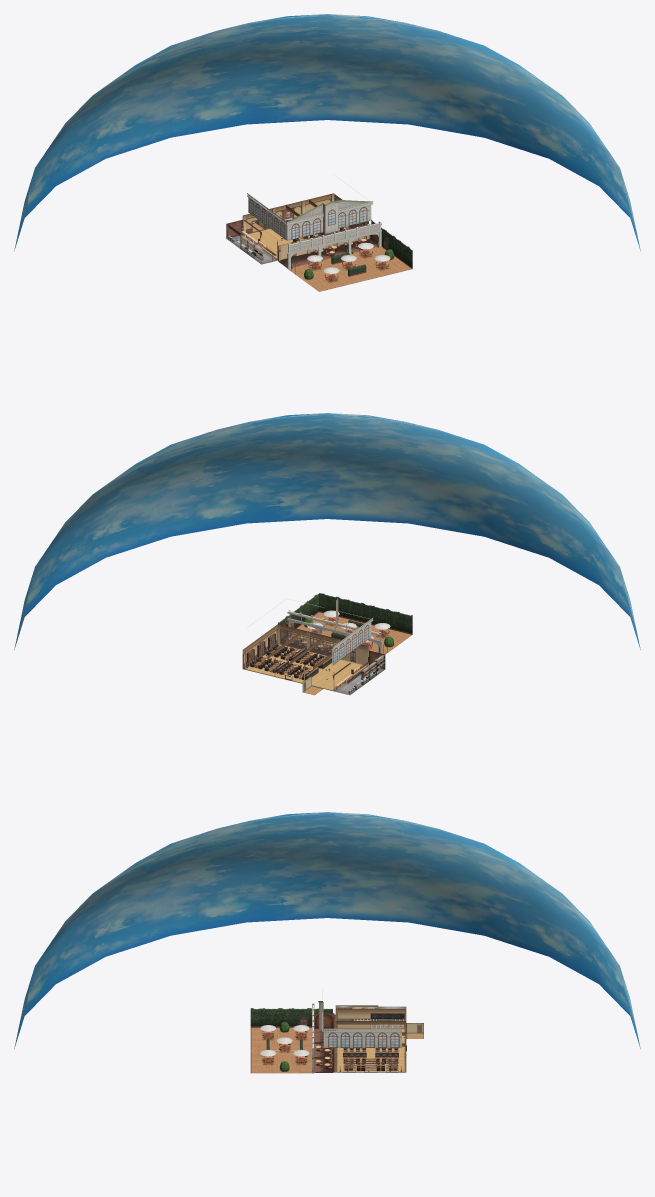
Rendered from cafe_shopfor_2k_likes.glb.
The picture shows the model from 3 angles, top to bottom: view 1: azimuth 30°, elevation 25°; view 2: azimuth 150°, elevation 25°; view 3: azimuth 270°, elevation 25°; orthographic projection.
Parts seen in each view (by area): view 1: FrontSide_1, FrontSide_5, FrontSide_7, FrontSide_3, FrontSide_6, FrontSide_4; view 2: FrontSide_1, FrontSide_5, FrontSide_2, FrontSide_7, FrontSide_3, FrontSide_0, FrontSide_6, FrontSide_4; view 3: FrontSide_1, FrontSide_5, FrontSide_7, FrontSide_2, FrontSide_6, FrontSide_3.
Part boxes in pixels (bbox=[...]): FrontSide_1: bbox=[14, 14, 640, 250]; FrontSide_5: bbox=[243, 193, 412, 291]; FrontSide_7: bbox=[241, 174, 381, 269]; FrontSide_3: bbox=[226, 198, 368, 264]; FrontSide_6: bbox=[258, 218, 394, 282]; FrontSide_4: bbox=[228, 194, 369, 260]; FrontSide_1: bbox=[14, 413, 640, 649]; FrontSide_5: bbox=[242, 595, 412, 691]; FrontSide_2: bbox=[246, 633, 334, 679]; FrontSide_7: bbox=[247, 597, 381, 690]; FrontSide_3: bbox=[242, 629, 385, 695]; FrontSide_0: bbox=[263, 593, 412, 680]; FrontSide_6: bbox=[284, 610, 393, 680]; FrontSide_4: bbox=[245, 624, 384, 694]; FrontSide_1: bbox=[14, 812, 640, 1048]; FrontSide_5: bbox=[250, 1005, 406, 1073]; FrontSide_7: bbox=[312, 989, 404, 1073]; FrontSide_2: bbox=[312, 1038, 406, 1071]; FrontSide_6: bbox=[260, 1020, 406, 1071]; FrontSide_3: bbox=[335, 1005, 423, 1038].
Size of what is drawn, in the model's own units: 133 by 46.59 by 133.
9 materials, 9 textured.
